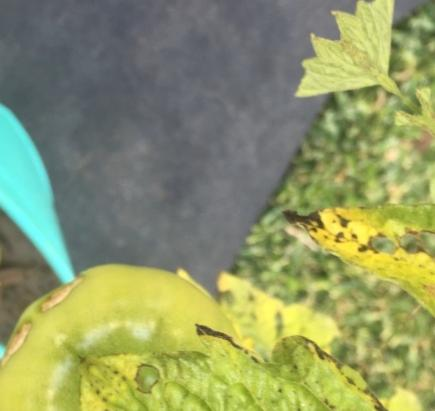Tomato Septoria leaf spot: (20, 116, 410, 411)
